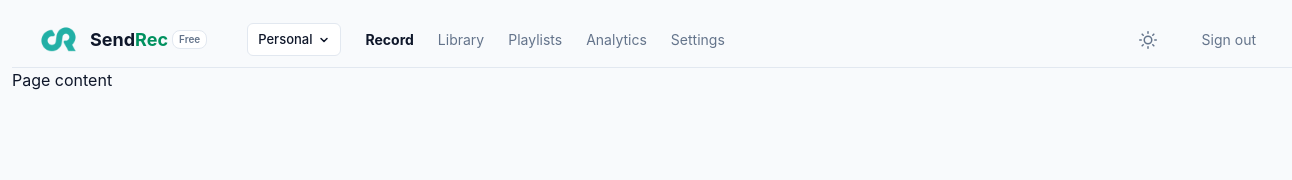
Scenario: Layout › shows inline create form when clicking New Workspace
Click the button named "Switch workspace" at (294, 40), box [247,23,342,56]
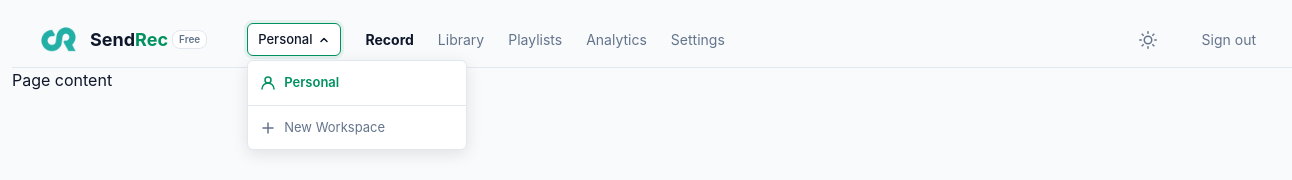
Click the button "New Workspace" at (357, 128), box [248,110,466,145]
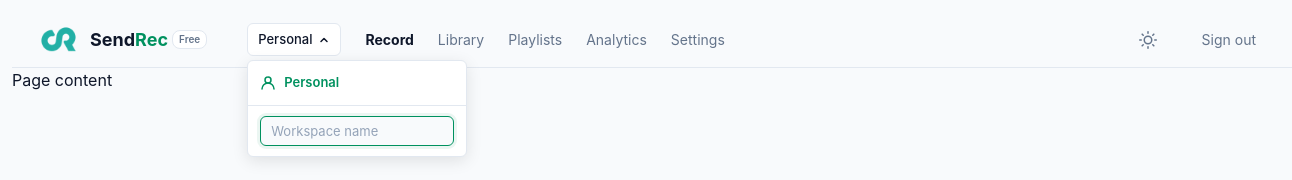
expect the field with placeholder "Workspace name" is shown: met, box [260,116,454,146]
